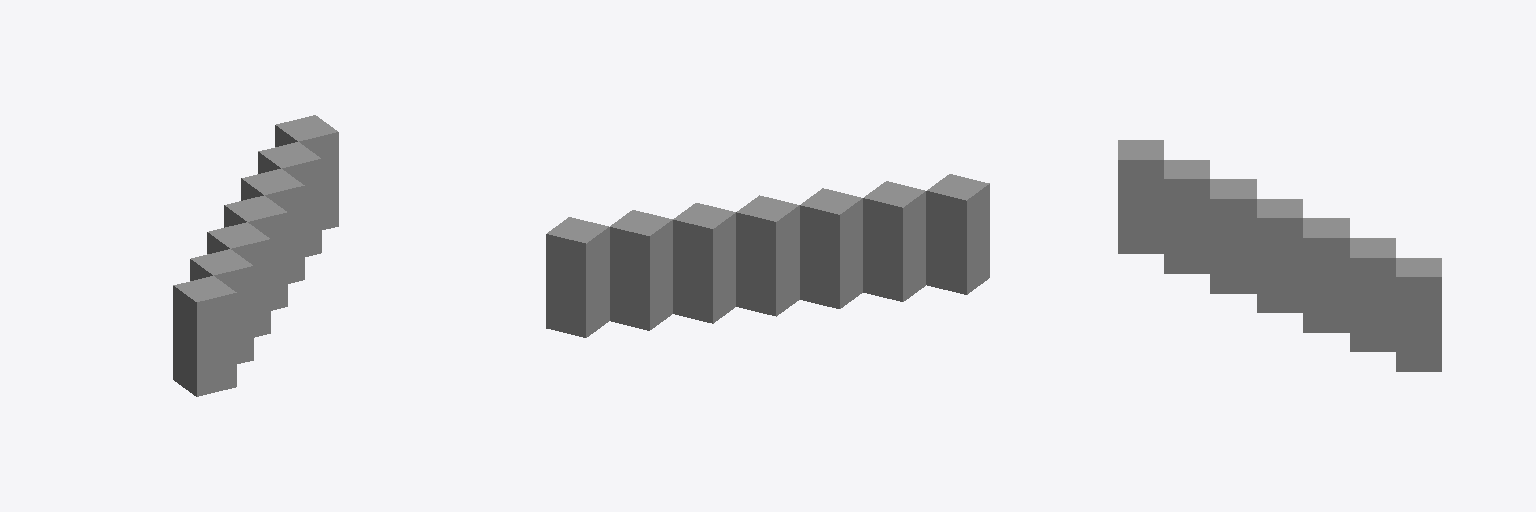
Rendered from Slash.obj.
3 views of the same model, side by side, from view 1: azimuth 30°, elevation 25°; view 2: azimuth 150°, elevation 25°; view 3: azimuth 270°, elevation 25° (orthographic).
Parts seen in each view (by area): view 1: Slash_CUABC.047; view 2: Slash_CUABC.047; view 3: Slash_CUABC.047.
Boxes of the visible parts, x1=… form: Slash_CUABC.047: x1=173, y1=115, x2=338, y2=396; Slash_CUABC.047: x1=546, y1=174, x2=989, y2=337; Slash_CUABC.047: x1=1118, y1=140, x2=1441, y2=371.
Size of the model in its own units: 0.7778 by 0.25 by 0.7778.